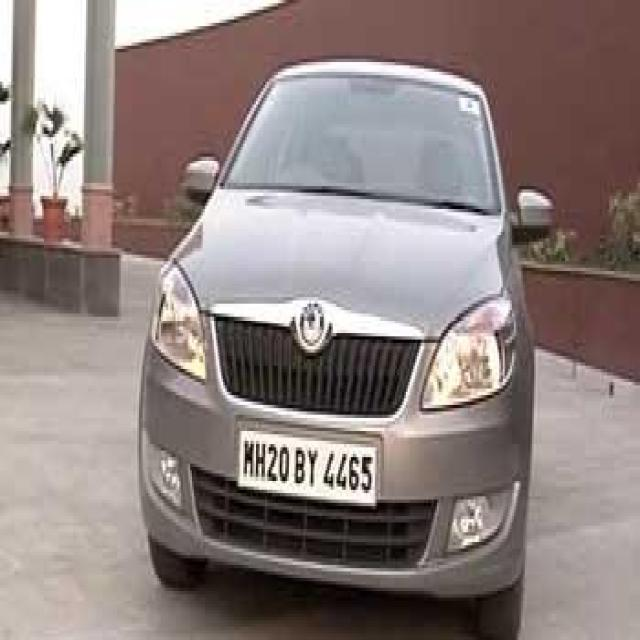number_plate: (238, 418, 380, 496)
